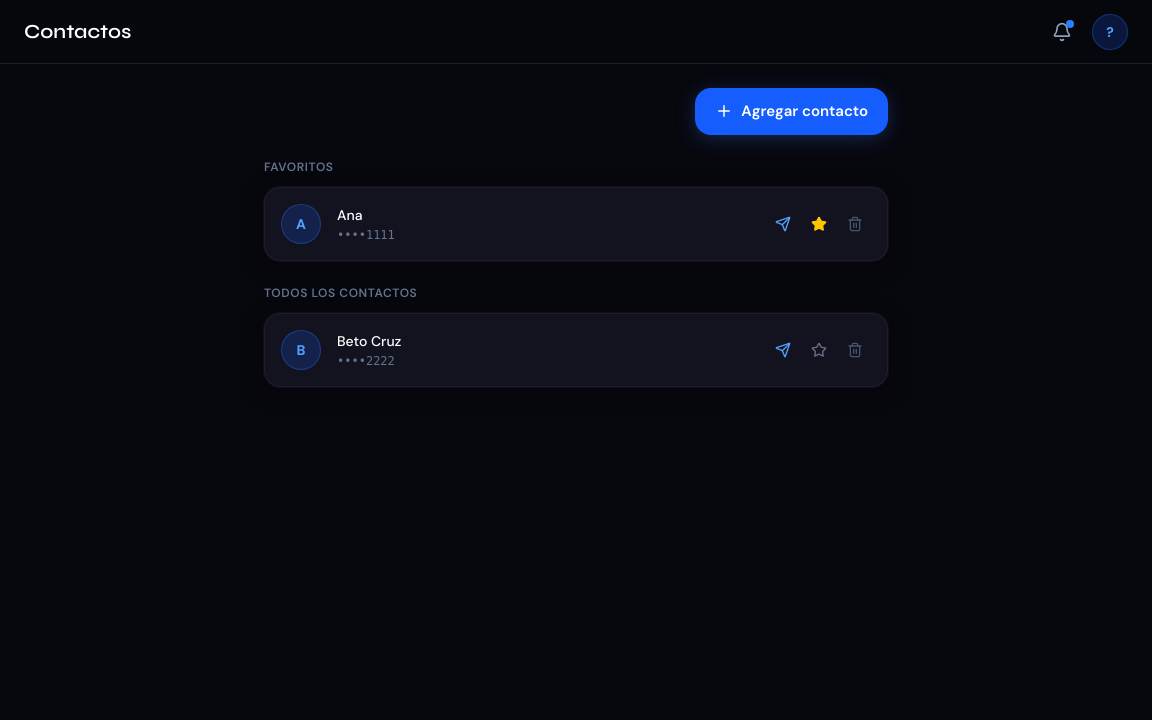
Scenario: ContactsPage › the CLABE input strips non-digit characters and caps at 18
Expected: the text "Ana" is shown, left=337, top=206, right=362, bottom=224
Click the button "Agregar contacto": x=792, y=111 left=695, top=88, right=888, bottom=134
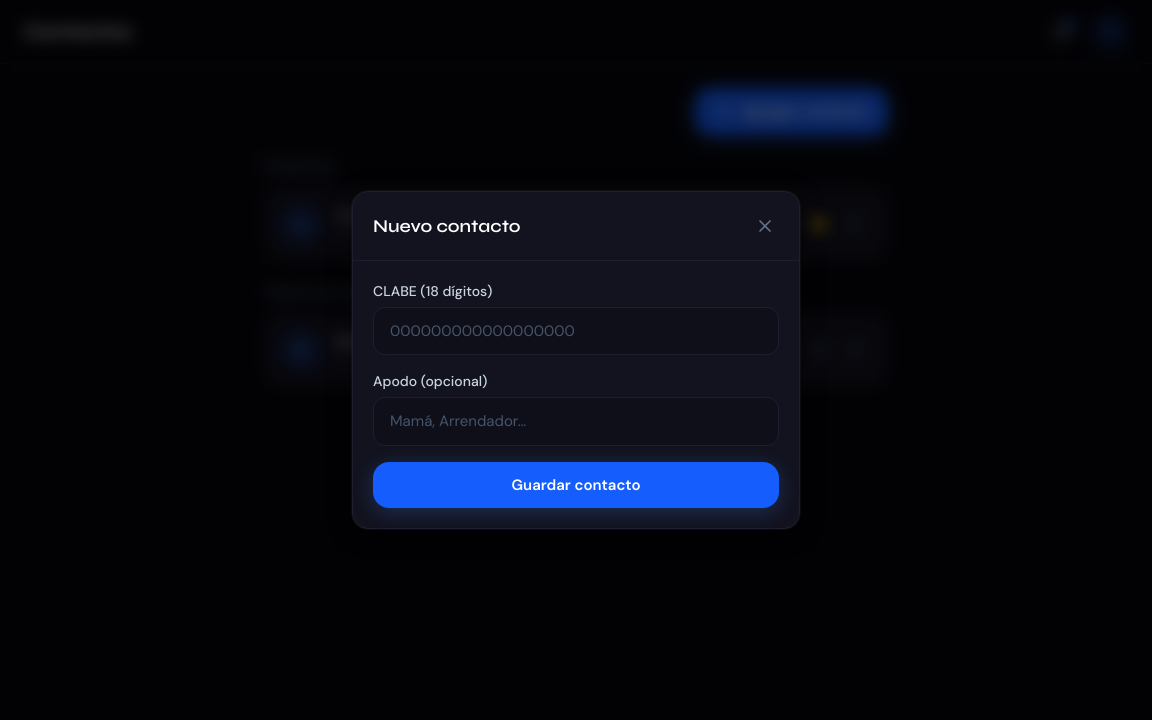
In the field with placeholder "000000000000000000": x=576, y=331 left=373, top=307, right=779, bottom=355, type "abc333333333333333333999"
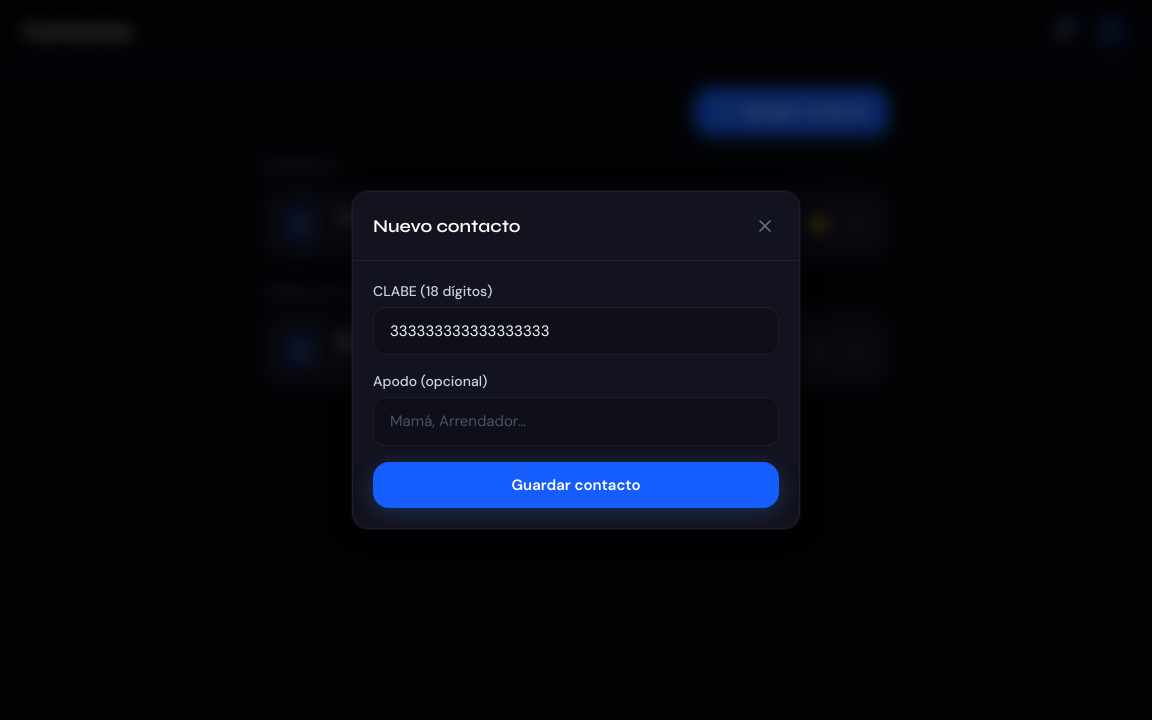
Expected: the field with placeholder "000000000000000000" holds "333333333333333333", left=373, top=307, right=779, bottom=355
